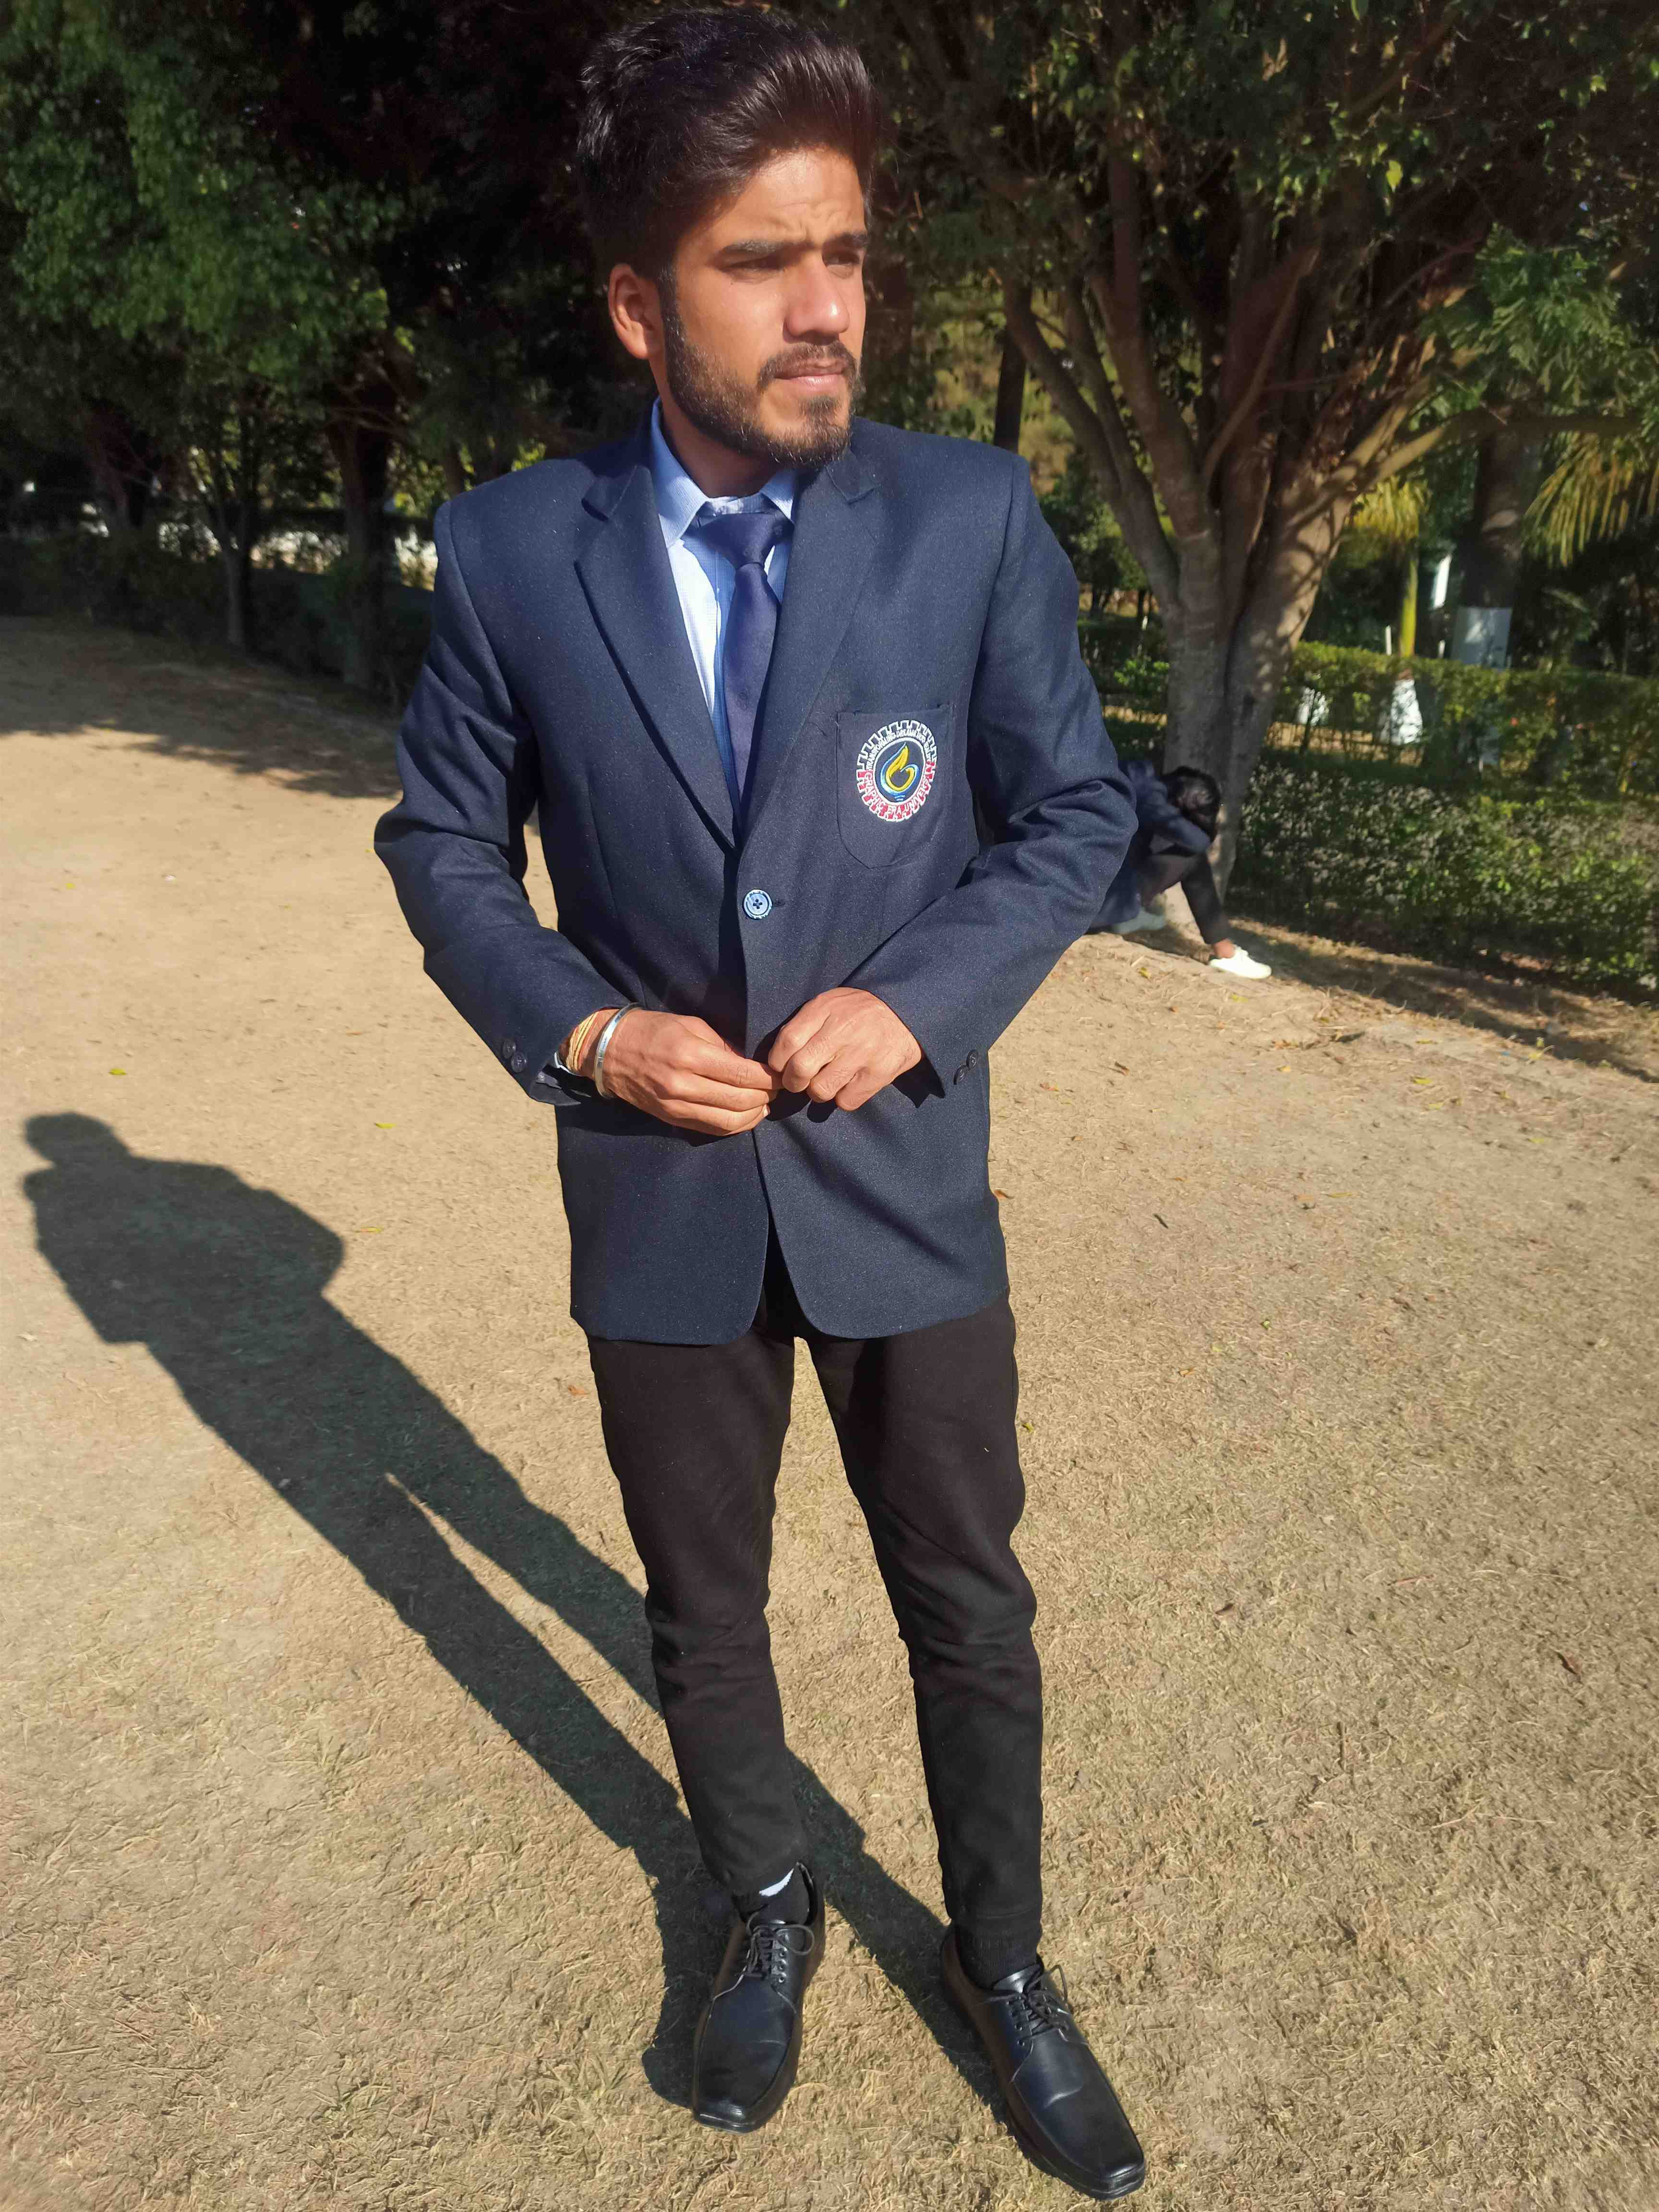blazer: (413, 427, 1126, 1360)
tie: (667, 503, 798, 789)
